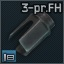SIG Sauer 7.62x51 3-prong flash hider: (0, 0, 64, 64)
